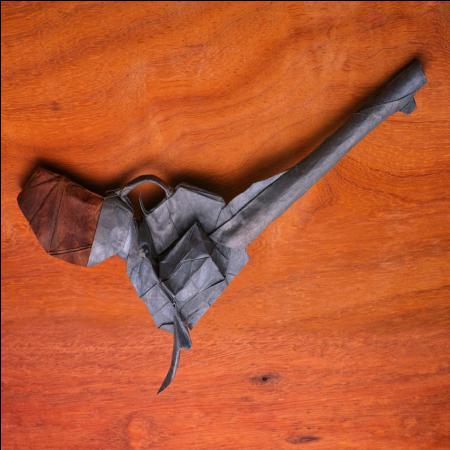Pistol: (16, 54, 428, 396)
